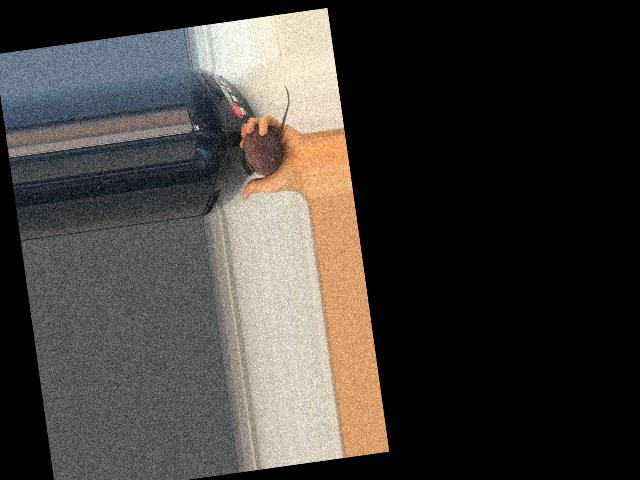beet: (231, 84, 300, 178)
